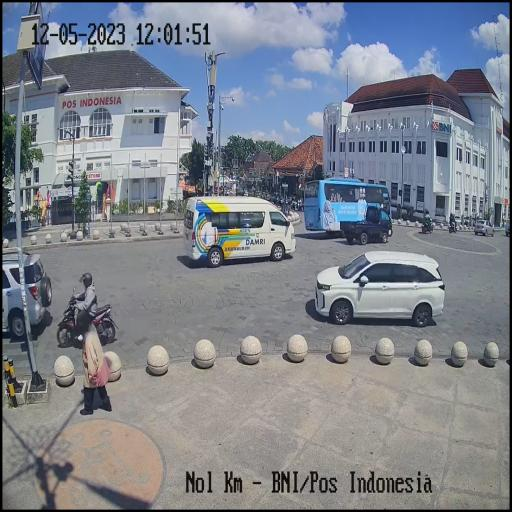mobil: (314, 250, 446, 328), (181, 192, 296, 264), (303, 177, 391, 239), (341, 202, 393, 244)
motor: (56, 288, 116, 350)
